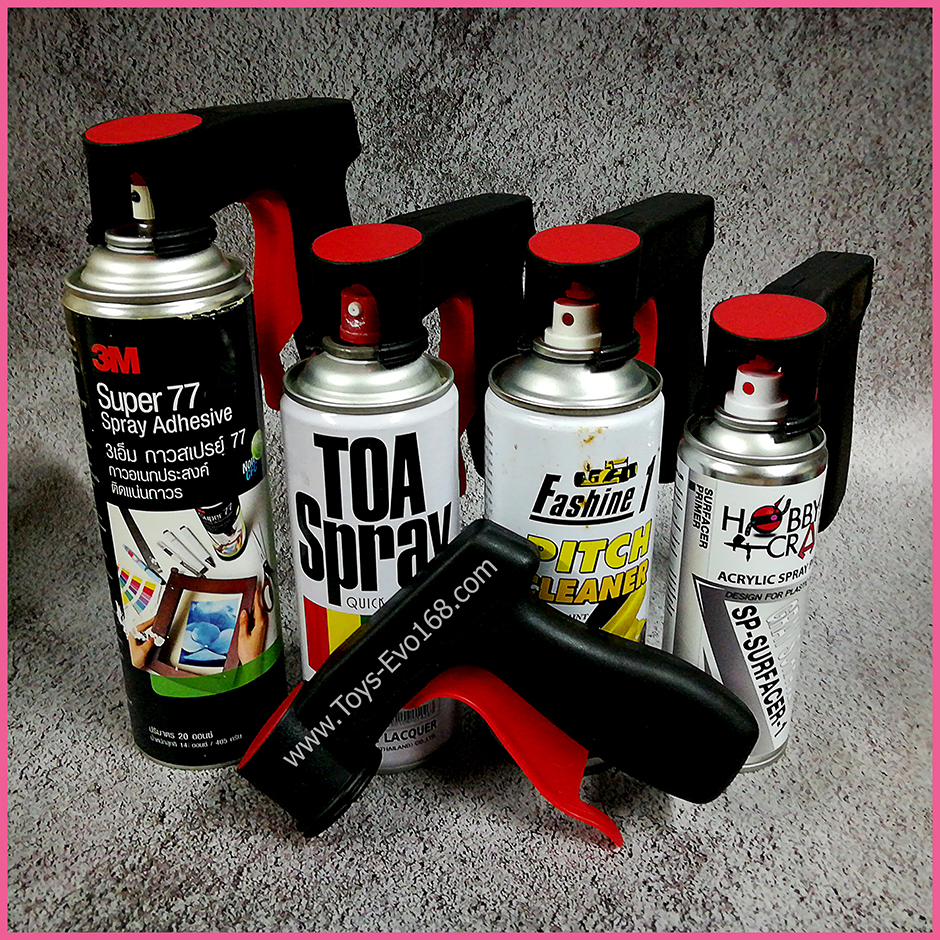Aerosol_cans: (53, 179, 299, 775), (278, 220, 470, 778), (663, 286, 821, 775), (478, 215, 655, 647)
